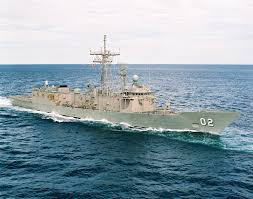tau_muctieu: (5, 53, 238, 137)
